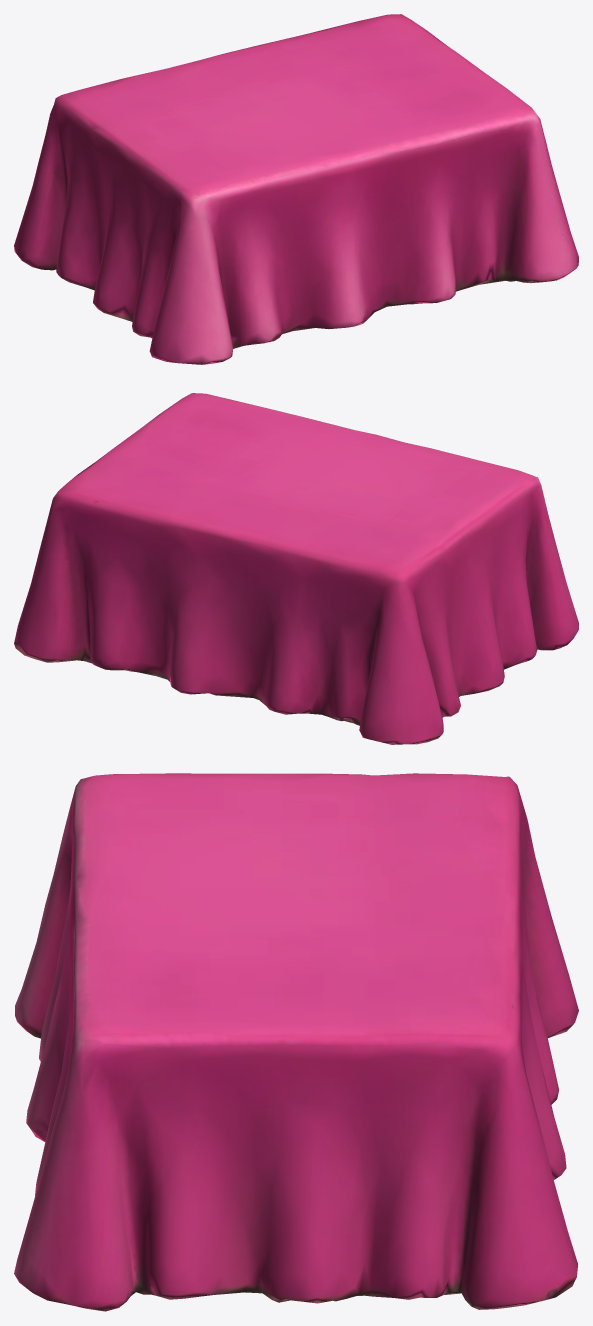
Rendered from clothtable.glb.
3 views of the same model, one above another, from view 1: azimuth 30°, elevation 25°; view 2: azimuth 150°, elevation 25°; view 3: azimuth 270°, elevation 25° (orthographic). The views are drawn at different scales.
Size of the model in its own units: 0.9983 by 0.3784 by 0.7423.
1 material, 1 textured.
